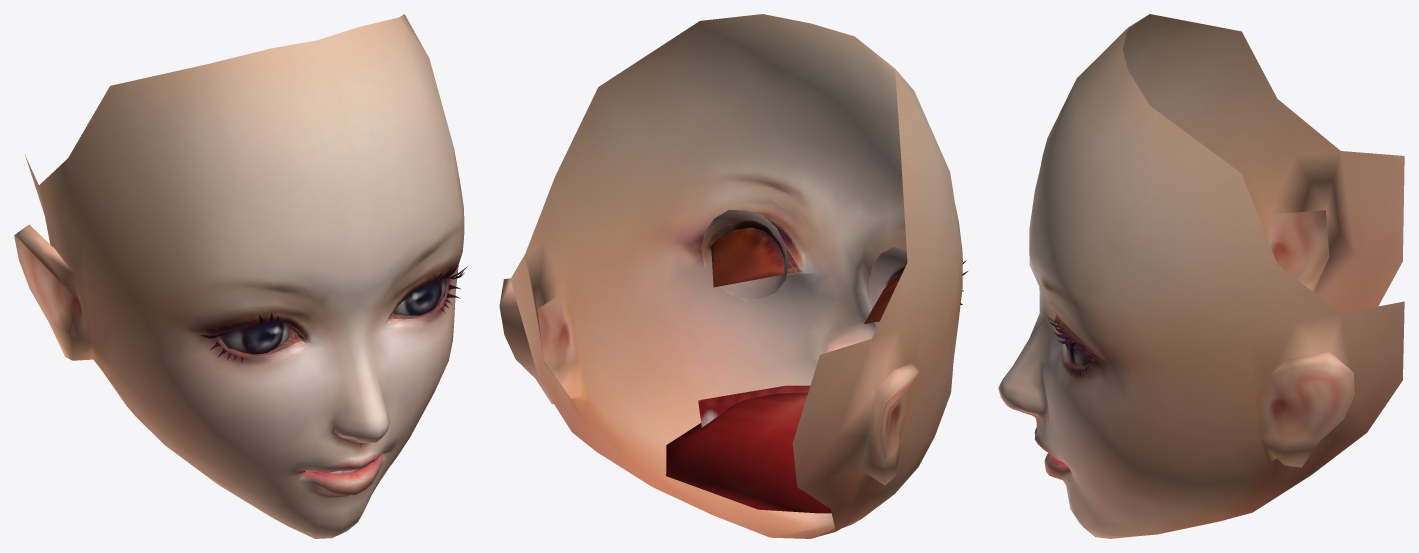
3 renders of one model, left to right at view 1: azimuth 30°, elevation 25°; view 2: azimuth 150°, elevation 25°; view 3: azimuth 270°, elevation 25°, orthographic. The views are drawn at different scales.
Parts seen in each view (by area): view 1: ts_nchr002_face; view 2: ts_nchr002_face; view 3: ts_nchr002_face.
Part boxes in pixels (x1,y1,x2,y2): ts_nchr002_face: (14,14,467,538); ts_nchr002_face: (499,14,967,538); ts_nchr002_face: (998,14,1404,538).
Size of the model in its own units: 0.1808 by 0.2152 by 0.1629.
